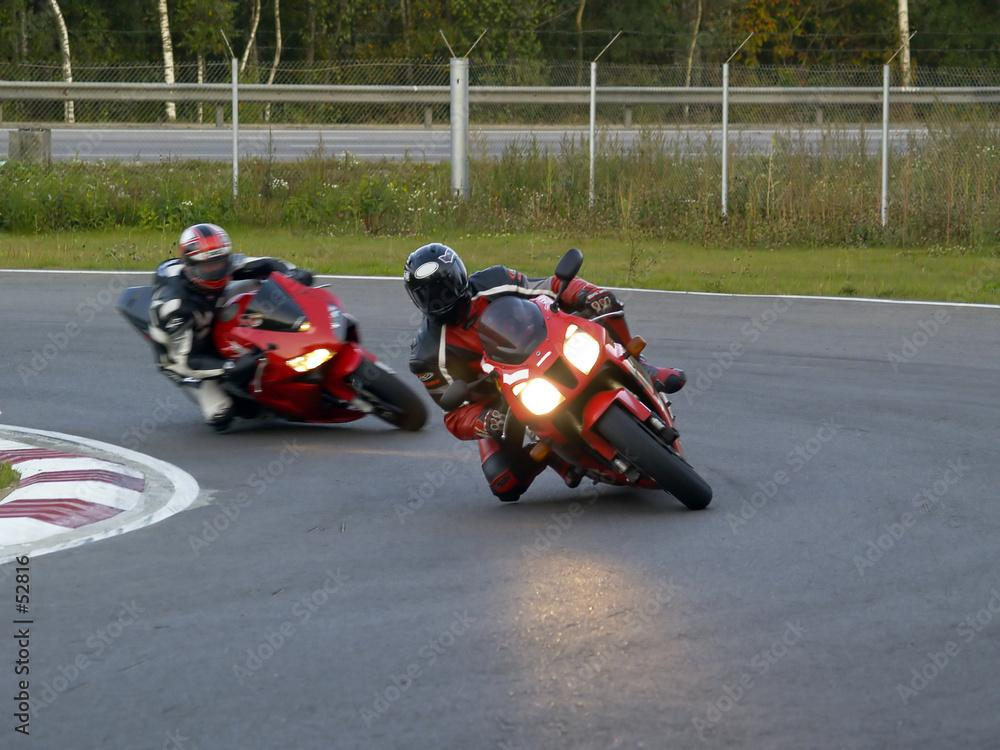helmet: (402, 242, 471, 326), (177, 222, 234, 297)
